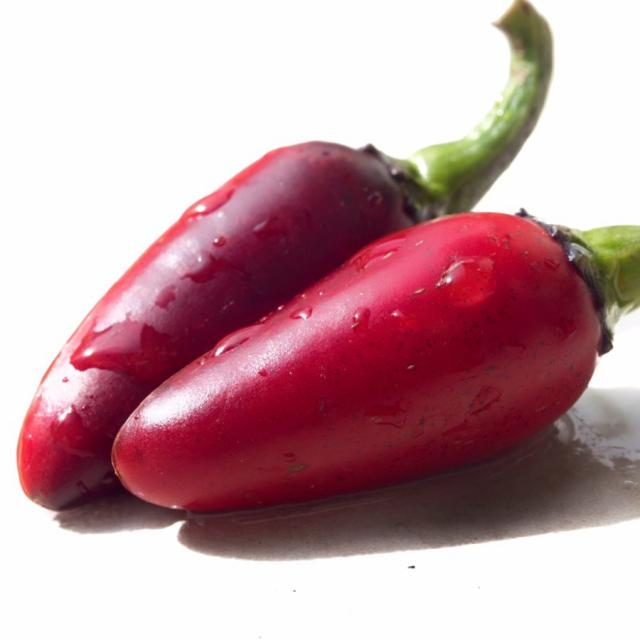aji: (23, 151, 418, 507), (157, 244, 615, 512)
